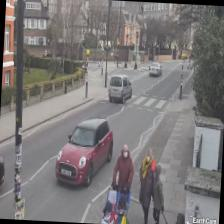person: (110, 143, 135, 223), (135, 146, 156, 224), (149, 163, 165, 224)
